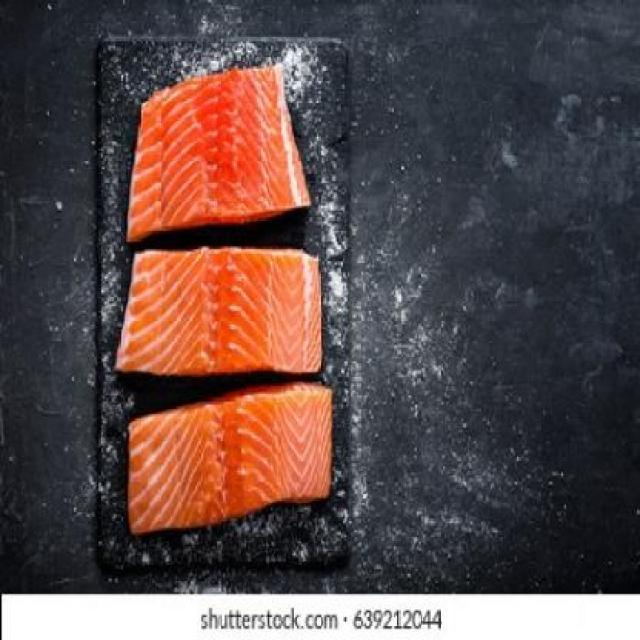Salmon: (116, 59, 336, 246), (100, 231, 362, 386), (110, 394, 352, 522)
